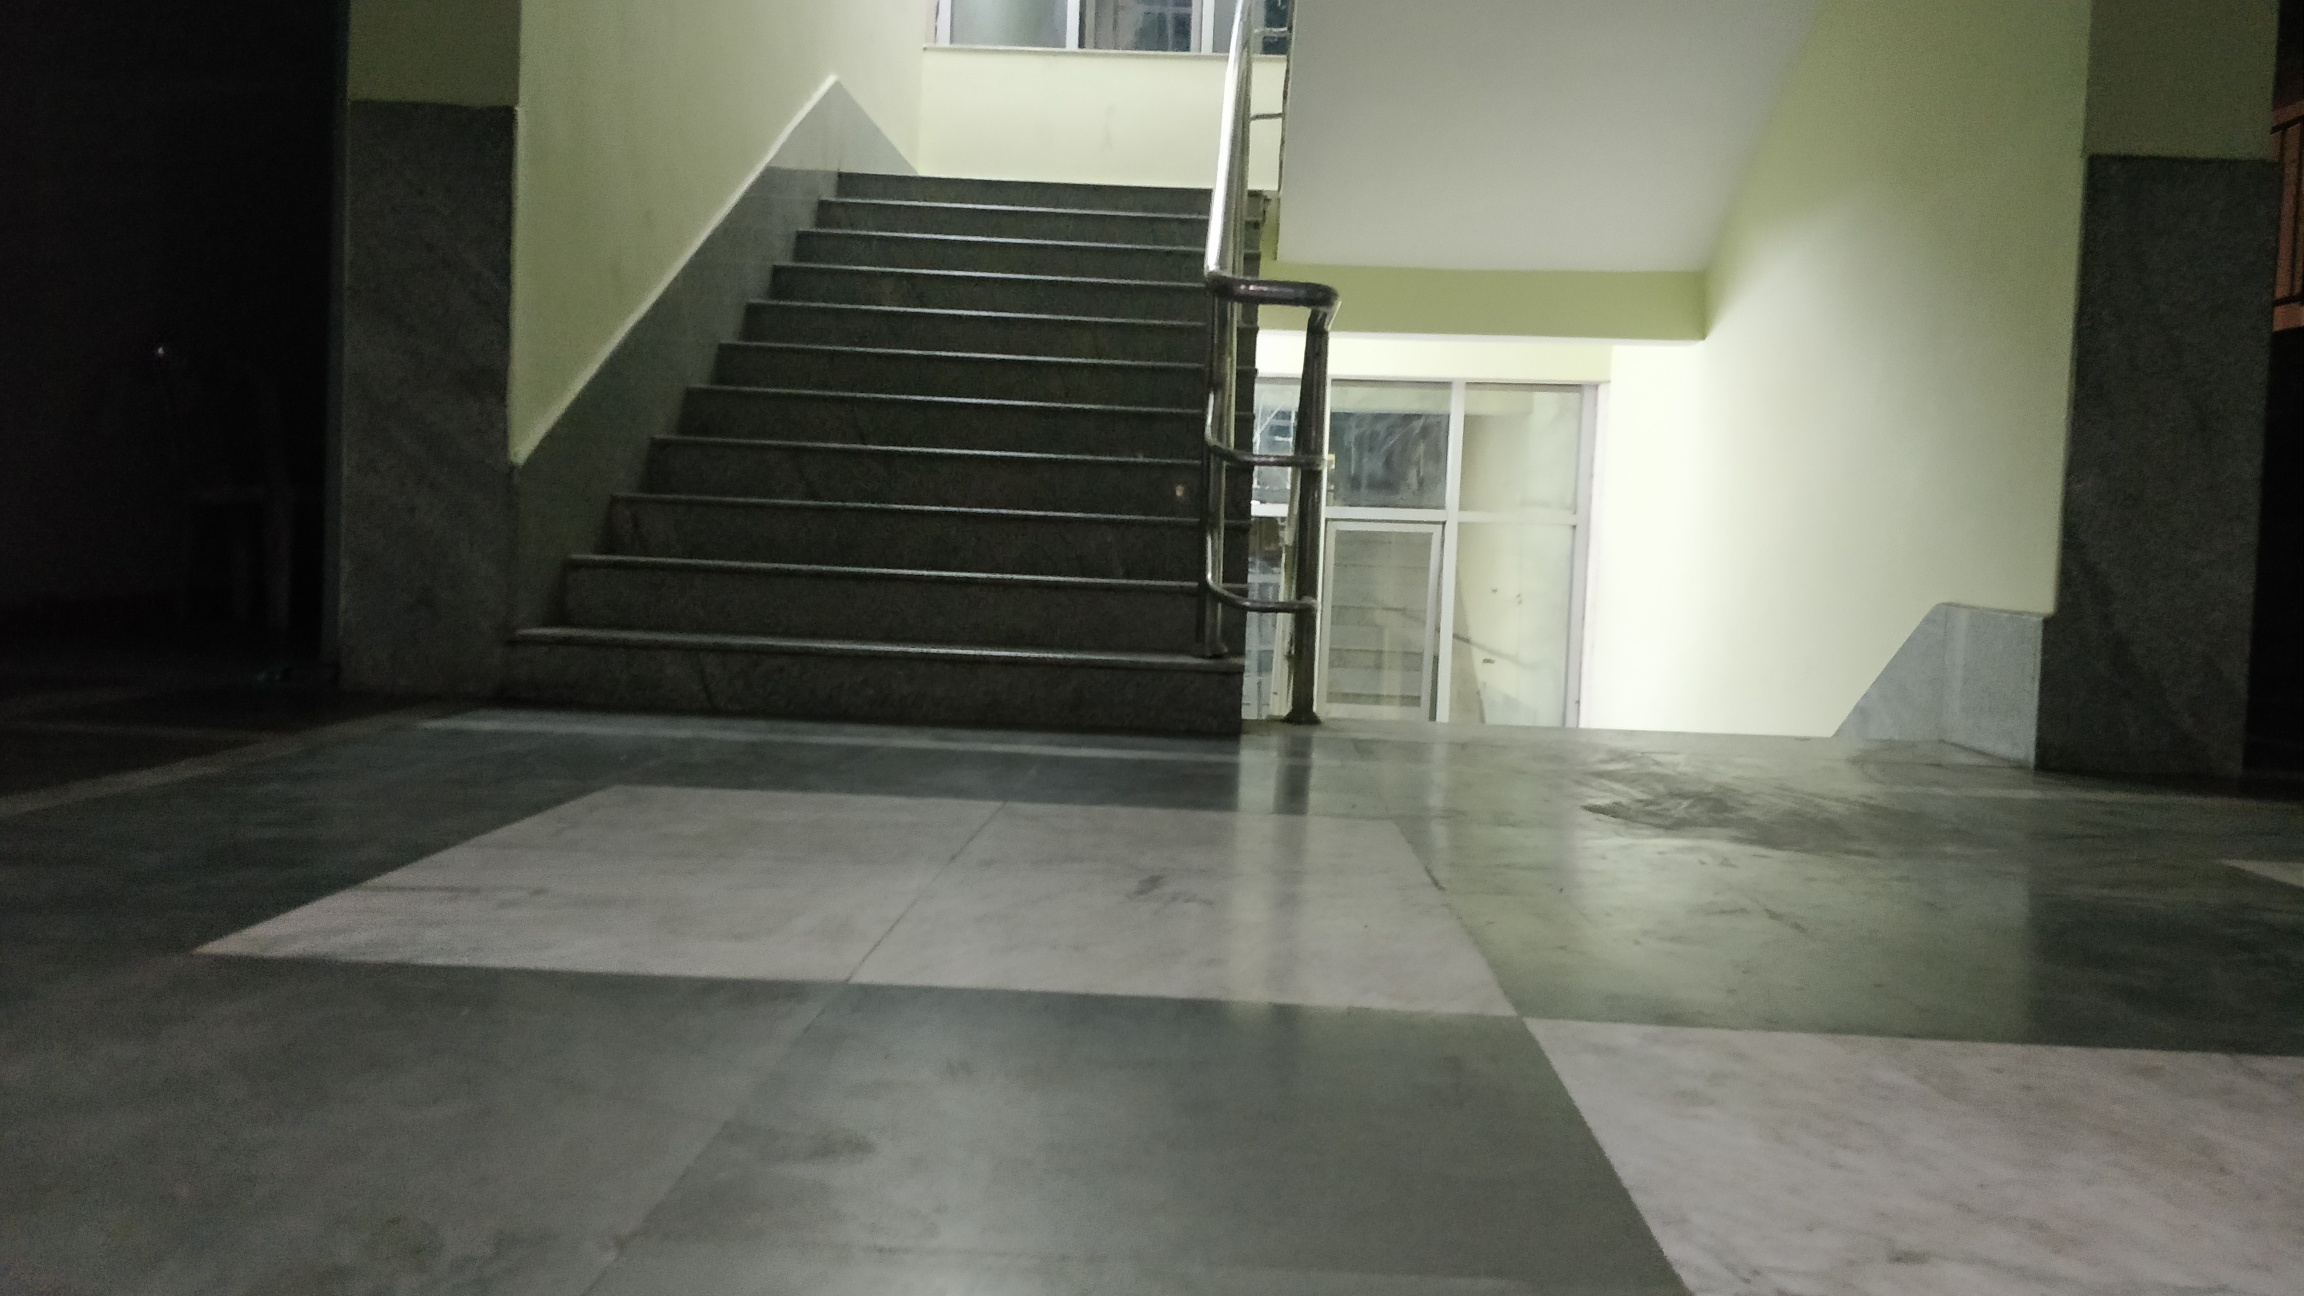stairs_up: (497, 177, 1266, 726)
